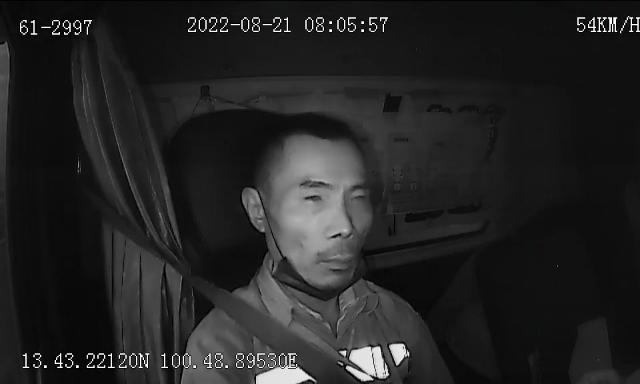SafeDriving: (415, 92, 462, 124), (296, 184, 332, 208), (344, 184, 374, 209)
Seatbelt: (99, 204, 363, 384)
